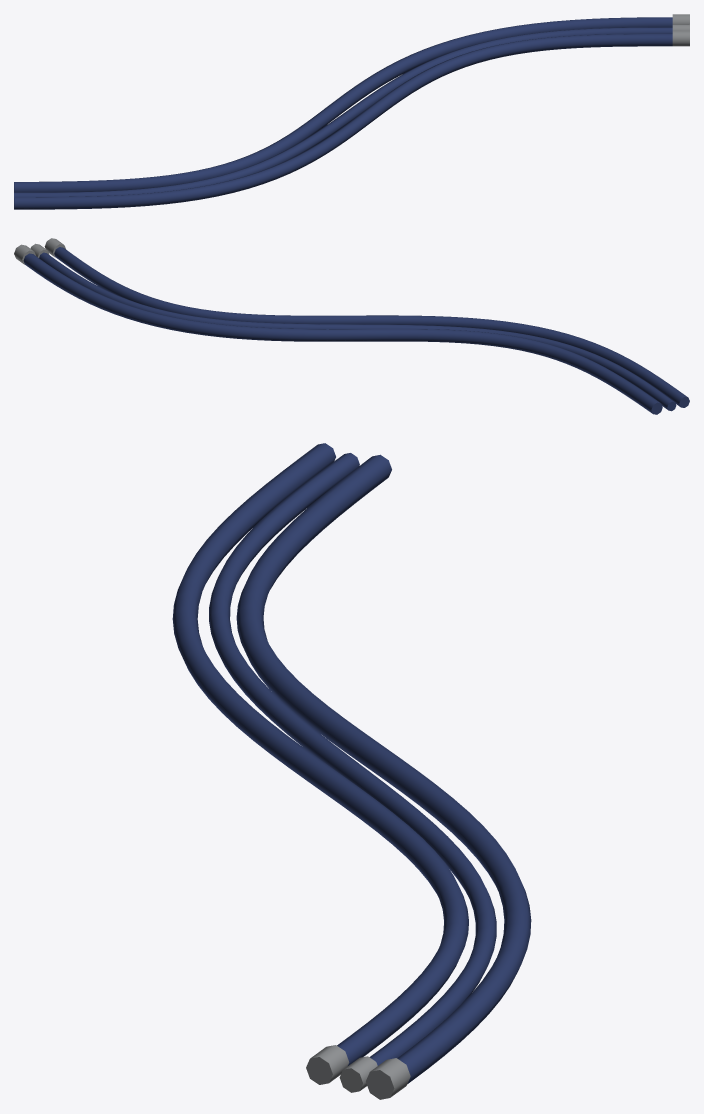
The model's file is cable_run_a.glb.
3 renders of one model, top to bottom at view 1: azimuth 30°, elevation 25°; view 2: azimuth 150°, elevation 25°; view 3: azimuth 270°, elevation 25°, orthographic. The views are drawn at different scales.
Visible parts, largest first — view 1: cable_blue__cable_run_a__ns, steel__cable_run_a__ns; view 2: cable_blue__cable_run_a__ns, steel__cable_run_a__ns; view 3: cable_blue__cable_run_a__ns, steel__cable_run_a__ns.
Boxes of the visible parts, x1,y1,x2,y2 form: cable_blue__cable_run_a__ns: (14,17,672,209); steel__cable_run_a__ns: (672,14,689,46); cable_blue__cable_run_a__ns: (23,247,689,414); steel__cable_run_a__ns: (14,238,66,264); cable_blue__cable_run_a__ns: (172,443,531,1083); steel__cable_run_a__ns: (306,1045,410,1099).
Size of the model in its own units: 7.87 by 0.172 by 1.86.
